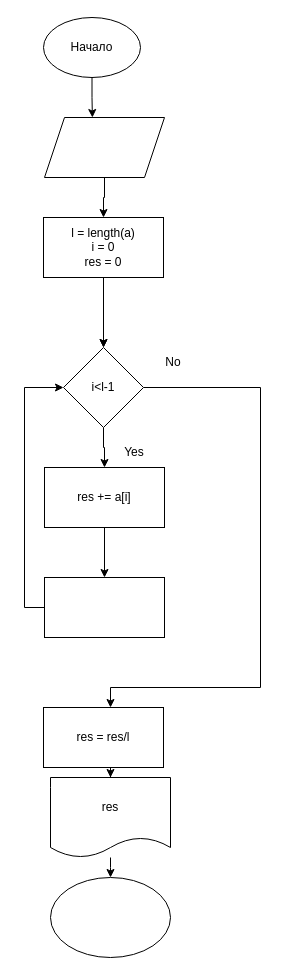
This 286x975 diagram has some shape labels left out. The centre of each missing label's shape, as x and y in pixels:
"a = [...]" goes at pixel 104 147.
"i += 1" goes at pixel 104 607.
"Конец" goes at pixel 110 917.
